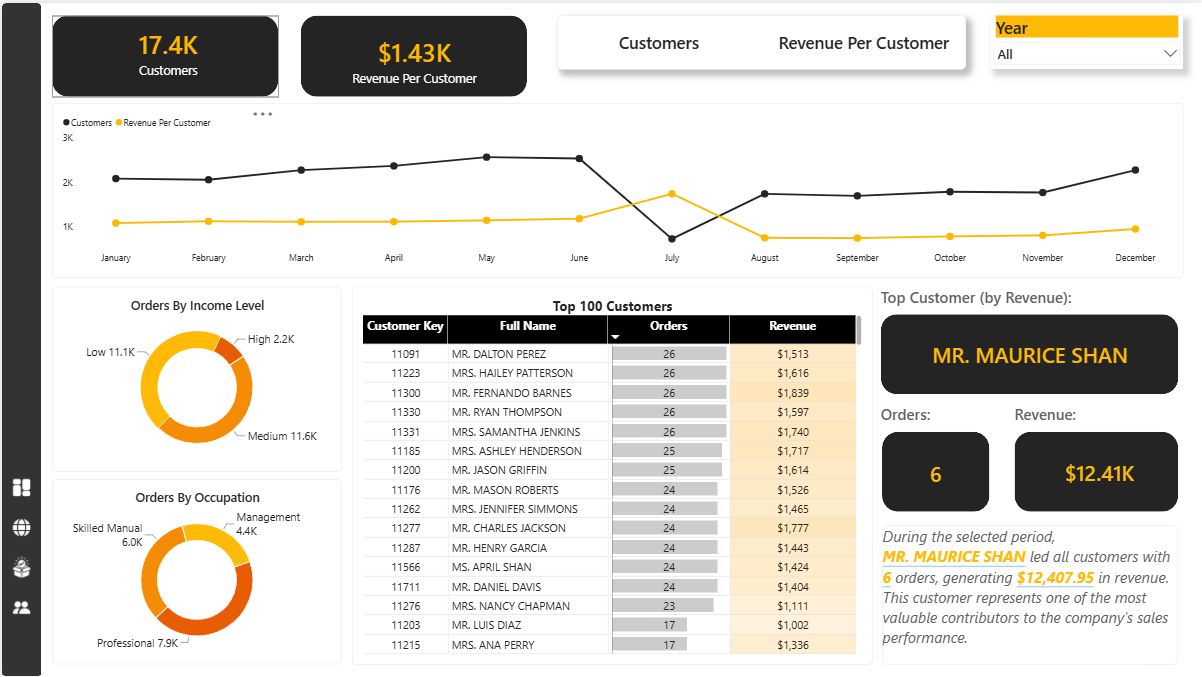

What the dashboard file says about the page in this screenshot:
{"tool":"powerbi","page":{"name":"Customer Details","canvas":[1920,1080],"ordinal":3},"visuals":[{"type":"shape","box":[0,0,62.8,1079.1],"z":0},{"type":"shape","box":[80,20,362,130],"z":0,"group":"g2"},{"type":"shape","box":[478,20,362,130],"z":0,"group":"g3"},{"type":"shape","box":[1406,498,476,128],"z":0},{"type":"actionButton","box":[5.7,749.3,51.4,50],"z":0,"group":"g1"},{"type":"card","fields":{"Values":["_All Measures.Average Revenue Per Customer"]},"box":[534,33.2,252,116.3],"z":1000,"group":"g3"},{"type":"cardVisual","fields":{"Data":["_All Measures.Total Customer"]},"box":[126.8,38.6,280.6,82],"z":1000,"group":"g2"},{"type":"cardVisual","fields":{"Data":["Min(Customer Lookup.Full Name)"]},"box":[1422,524,446,74],"z":1000},{"type":"group","id":"g1","title":"Close Nav Bar","box":[5.7,749.3,51.4,241.4],"z":1000},{"type":"actionButton","box":[5.7,813.1,51.4,50],"z":1000,"group":"g1"},{"type":"actionButton","box":[5.7,876.9,51.4,50],"z":2000,"group":"g1"},{"type":"actionButton","box":[5.7,940.7,51.4,50],"z":3000,"group":"g1"},{"type":"group","id":"g2","title":"Group 1","box":[80,20,362,130],"z":4000},{"type":"advancedSlicerVisual","fields":{"Values":["Customer Selection Metric.Customer Selection Metric"]},"box":[888,20,654,86],"z":5000},{"type":"group","id":"g3","title":"Group 2","box":[478,20,362,130],"z":6000},{"type":"lineChart","fields":{"Category":["Calendar Lookup.Date.Variation.Date Hierarchy.Year","Calendar Lookup.Date.Variation.Date Hierarchy.Quarter","Calendar Lookup.Date.Variation.Date Hierarchy.Month","Calendar Lookup.Date.Variation.Date Hierarchy.Day"],"Y":["_All Measures.Total Customer","_All Measures.Average Revenue Per Customer"]},"box":[80,160,1810,280],"z":7000},{"type":"donutChart","title":"Orders By Income Level","fields":{"Category":["Customer Lookup.Income Level"],"Y":["_All Measures.Total Orders"]},"box":[80,454,464,296],"z":7001},{"type":"donutChart","title":"Orders By Occupation","fields":{"Category":["Customer Lookup.Occupation"],"Y":["_All Measures.Total Orders"]},"box":[80,762,464,296],"z":7002},{"type":"tableEx","title":"Top 100 Customers","fields":{"Values":["Customer Lookup.CustomerKey","Customer Lookup.Full Name","_All Measures.Total Orders","_All Measures.Total Revenue"]},"box":[559.2,454.2,832.4,604.4],"z":7003},{"type":"slicer","fields":{"Values":["Calendar Lookup.Year"]},"box":[1582,20,308,86],"z":7004},{"type":"textbox","box":[1406,454,348,44],"z":7006},{"type":"textbox","box":[1406,642,148,44],"z":7007},{"type":"shape","box":[1408,686,172,128],"z":7008},{"type":"cardVisual","fields":{"Data":["_All Measures.Total Orders"]},"box":[1434,714,120,74],"z":7009},{"type":"textbox","box":[1620,642,148,44],"z":7010},{"type":"shape","box":[1620,686,262,128],"z":7011},{"type":"cardVisual","fields":{"Data":["_All Measures.Total Revenue"]},"box":[1644,712,224,74],"z":7012},{"type":"textbox","box":[1408.3,836.1,473.6,222.2],"z":7013}]}

Visuals, with their boxes in screenshot pixels (x1, y1, x2, y2), scaled from the page's 1920x1080 canvas onto the 1202x677 screenshot:
shape: box(0, 0, 39, 676)
shape: box(50, 13, 277, 94)
shape: box(299, 13, 526, 94)
shape: box(880, 312, 1178, 392)
actionButton: box(4, 470, 36, 501)
card - _All Measures.Average Revenue Per Customer: box(334, 21, 492, 94)
cardVisual - _All Measures.Total Customer: box(79, 24, 255, 76)
cardVisual - Min(Customer Lookup.Full Name): box(890, 328, 1169, 375)
"Close Nav Bar" group: box(4, 470, 36, 621)
actionButton: box(4, 510, 36, 541)
actionButton: box(4, 550, 36, 581)
actionButton: box(4, 590, 36, 621)
"Group 1" group: box(50, 13, 277, 94)
advancedSlicerVisual - Customer Selection Metric.Customer Selection Metric: box(556, 13, 965, 66)
"Group 2" group: box(299, 13, 526, 94)
lineChart - Calendar Lookup.Date.Variation.Date Hierarchy.Year x Calendar Lookup.Date.Variation.Date Hierarchy.Quarter: box(50, 100, 1183, 276)
"Orders By Income Level" donutChart: box(50, 285, 341, 470)
"Orders By Occupation" donutChart: box(50, 478, 341, 663)
"Top 100 Customers" tableEx: box(350, 285, 871, 664)
slicer - Calendar Lookup.Year: box(990, 13, 1183, 66)
textbox: box(880, 285, 1098, 312)
textbox: box(880, 402, 973, 430)
shape: box(881, 430, 989, 510)
cardVisual - _All Measures.Total Orders: box(898, 448, 973, 494)
textbox: box(1014, 402, 1107, 430)
shape: box(1014, 430, 1178, 510)
cardVisual - _All Measures.Total Revenue: box(1029, 446, 1169, 493)
textbox: box(882, 524, 1178, 663)
